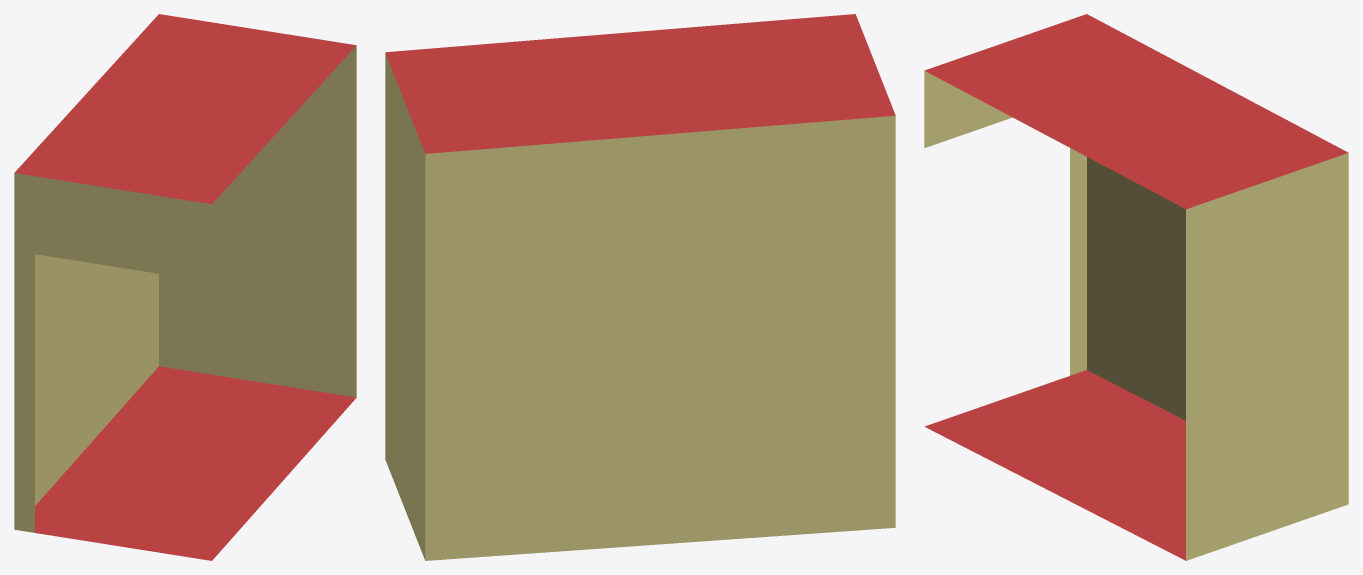
3 renders of one model, left to right at view 1: azimuth 30°, elevation 25°; view 2: azimuth 150°, elevation 25°; view 3: azimuth 270°, elevation 25°, orthographic. The views are drawn at different scales.
Size of the model in its own units: 10.24 by 9.62 by 8.9.
